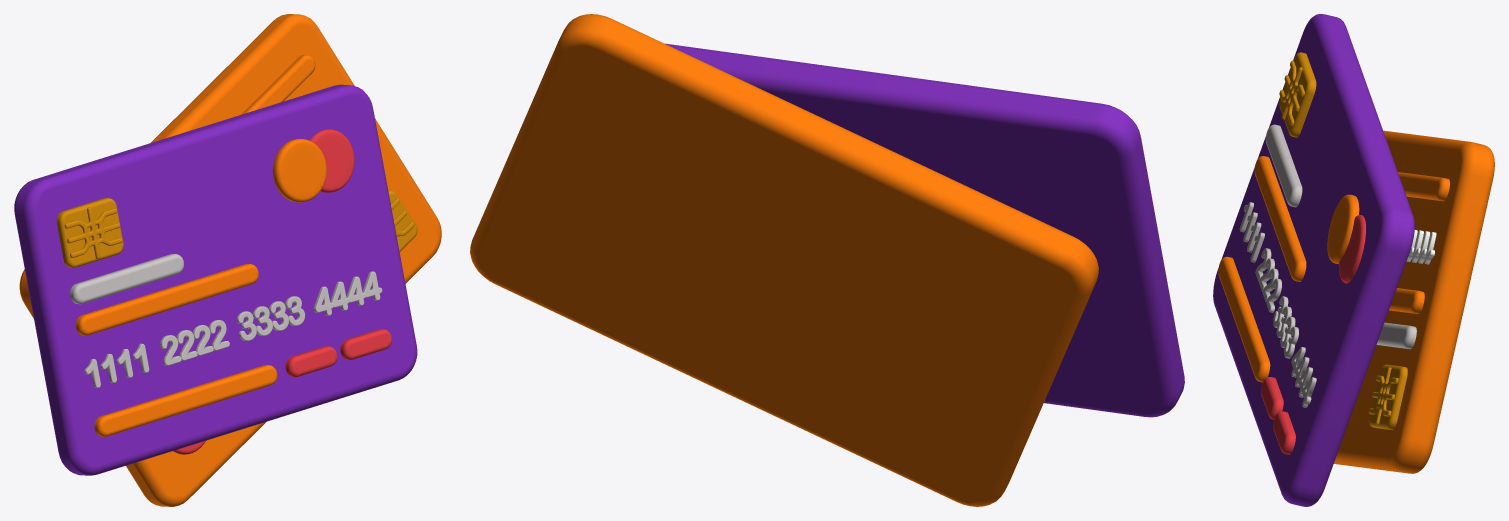
The model's file is card.glb.
3 views of the same model, side by side, from view 1: azimuth 30°, elevation 25°; view 2: azimuth 150°, elevation 25°; view 3: azimuth 270°, elevation 25° (orthographic). The views are drawn at different scales.
Parts seen in each view (by area): view 1: Cube.014, Cube.015; view 2: Cube.014; view 3: Cube.014, Cube.015, Cube.025.
Part boxes in pixels (<box>): Cube.014: <box>14,14,441,506</box>; Cube.015: <box>56,190,417,267</box>; Cube.014: <box>470,14,1184,506</box>; Cube.014: <box>1213,14,1494,506</box>; Cube.015: <box>1279,52,1407,430</box>; Cube.025: <box>1406,230,1436,264</box>.
Bounding box in the file's own units: 5.67 × 4.47 × 2.71.
3 materials, 3 textured.
